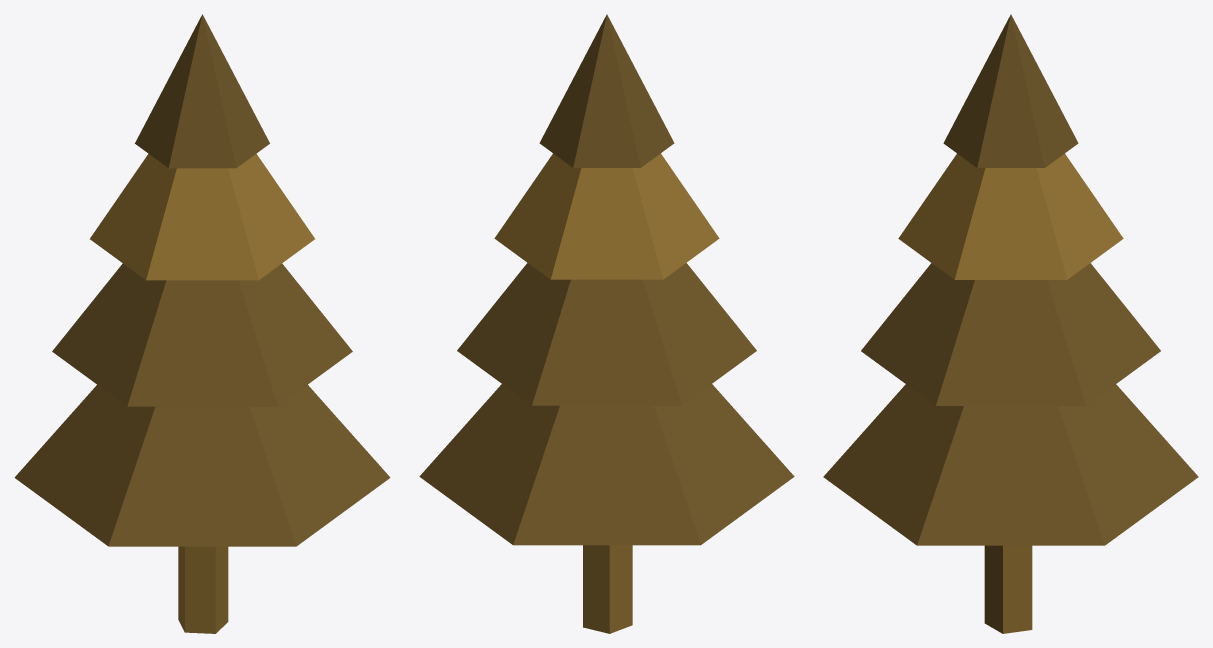
Rendered from gold_pine.glb.
3 renders of one model, left to right at view 1: azimuth 30°, elevation 25°; view 2: azimuth 150°, elevation 25°; view 3: azimuth 270°, elevation 25°, orthographic.
Parts seen in each view (by area): view 1: golden needles, golden needles.001, golden needles.002, golden needles.003, gilded trunk.001; view 2: golden needles, golden needles.001, golden needles.002, golden needles.003, gilded trunk.001; view 3: golden needles, golden needles.001, golden needles.002, golden needles.003, gilded trunk.001.
Boxes of the visible parts, x1,y1,x2,y2 form: golden needles: (14,385,390,546); golden needles.001: (52,263,352,406); golden needles.002: (90,154,314,280); golden needles.003: (135,14,269,168); gilded trunk.001: (178,546,228,633); golden needles: (419,384,794,545); golden needles.001: (457,263,756,405); golden needles.002: (494,153,719,279); golden needles.003: (539,14,674,167); gilded trunk.001: (583,545,632,633); golden needles: (823,384,1198,545); golden needles.001: (861,263,1160,405); golden needles.002: (898,153,1123,279); golden needles.003: (943,14,1078,167); gilded trunk.001: (984,545,1032,633).
Bounding box in the file's own units: 0.866 × 1.79 × 1.
